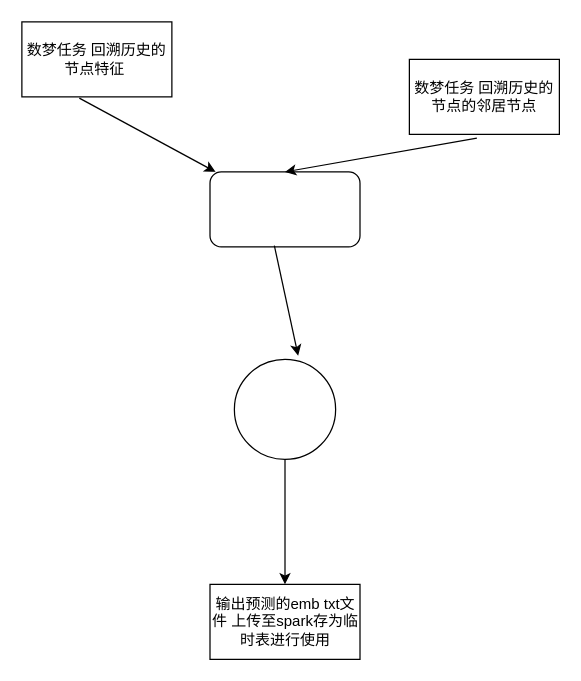
Some shapes in this 581 by 681 pixel diagram are drawn without their labels. The centre of each missing label's shape, as x and y in pixels:
"鲁班代码 pyspark查找需要回溯的节点特征和邻居节点（按照时间分区）" goes at pixel 284 209.
"鲁班运行模型预测代码" goes at pixel 284 408.
